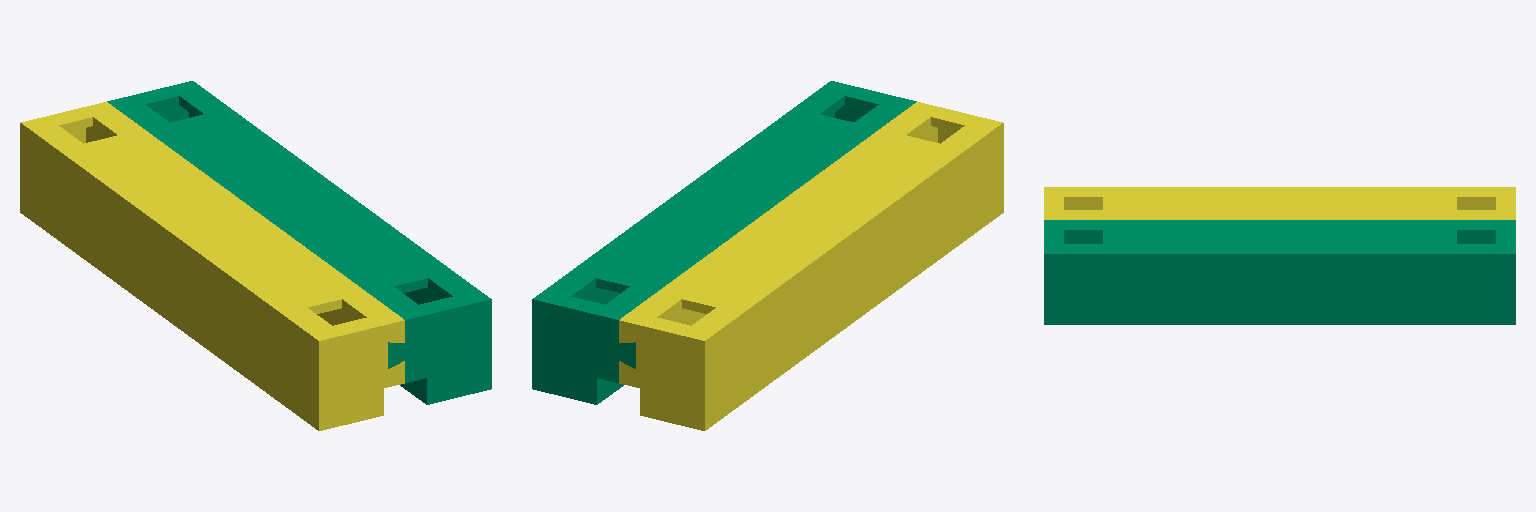
URDF robot description (mimic):
<?xml version="1.0"?>
<robot name="mimic">
    <material name="black">
        <color rgba="0 0 0 1.0"/>
    </material>

    <link name="map">
        <visual>
            <origin rpy="0.0 0 0" xyz="0 0 0"/>
        </visual>
    </link>
    
    

    <link name="sbj_arm">
        <visual>
            <geometry>
                    <mesh filename="package://urdf_tutorial/meshes/visual/sbj_arm.dae"/>
                    <material name= "black"/>
            </geometry>
        </visual>
        <collision>
            <geometry>
                <mesh filename="package://urdf_tutorial/meshes/collision/sbj_arm.stl" scale="0.001 0.001 0.001" />
            </geometry>
        </collision>
    </link>

    <link name="sbj_body1">
        <visual>
            <geometry>
                    <mesh filename="package://urdf_tutorial/meshes/visual/sbj_body1.dae"/>
                    <material name= "black"/>
            </geometry>
        </visual>
        <collision>
            <geometry>
                <mesh filename="package://urdf_tutorial/meshes/collision/sbj_body1.stl" scale="0.001 0.001 0.001" />
            </geometry>
        </collision>
    </link>

    <link name="sbj_body2">
        <visual>
            <geometry>
                    <mesh filename="package://urdf_tutorial/meshes/visual/sbj_body2.dae"/>
                    <material name= "black"/>
            </geometry>
        </visual>
        <collision>
            <geometry>
                <mesh filename="package://urdf_tutorial/meshes/collision/sbj_dody2.stl" scale="0.001 0.001 0.001" />
            </geometry>
        </collision>
    </link>

    <joint name="map_to_body1" type="prismatic">
        <parent link="map"/>
        <child link="sbj_body1"/>
        <axis xyz="0 1 0"/>
<limit effort="1000.0" lower="-0.38" upper="0" velocity="0.5"/>
	</joint>
    <joint name="map_to_body2" type="prismatic">
        <parent link="map"/>
        <child link="sbj_body2"/>
        <axis xyz="0 1 0"/>
<limit effort="1000.0" lower="-0.38" upper="0" velocity="0.5"/>
    </joint>
    <joint name="body_to_arm" type="fixed">
        <parent link="sbj_body1"/>
        <child link="sbj_arm"/>
    </joint>
    <joint name="map_to_ladder" type="fixed">
        <parent link="map"/>
        <child link="ladder"/>
    </joint>
<link name="ladder">
        <visual>
            <origin rpy="0.0 0 0" xyz="0 0 0"/>
            <geometry>
                <mesh filename="package://urdf_tutorial/meshes/visual/ladder.dae" scale="0.001 0.001 0.001"/>
            </geometry>
        </visual>
    </link>
    

</robot>

--- What the picture shows (computed from the rendered views, not written in the file) ---
3 views of the same robot in one strip: view 1: azimuth 30°, elevation 25°; view 2: azimuth 150°, elevation 25°; view 3: azimuth 270°, elevation 25° (orthographic).
Robot: mimic — 5 links, 4 joints (2 prismatic, 2 fixed); root link map; default pose: all joints at 0.
Visible links, largest first — view 1: sbj_body2, sbj_body1; view 2: sbj_body2, sbj_body1; view 3: sbj_body1, sbj_body2.
Link boxes in pixels (x1,y1,x2,y2): sbj_body2: (20,102,404,430); sbj_body1: (107,81,491,404); sbj_body2: (619,102,1003,430); sbj_body1: (532,81,916,404); sbj_body1: (1044,220,1515,324); sbj_body2: (1044,187,1515,219).
Size in the robot's own frame: 0.04 by 0.12 by 0.02 metres.
Meshes: 4 distinct files referenced, 2 mesh visuals loaded (2 Collada DAE); not drawn: 2 (reference not matched to a file when rendering).